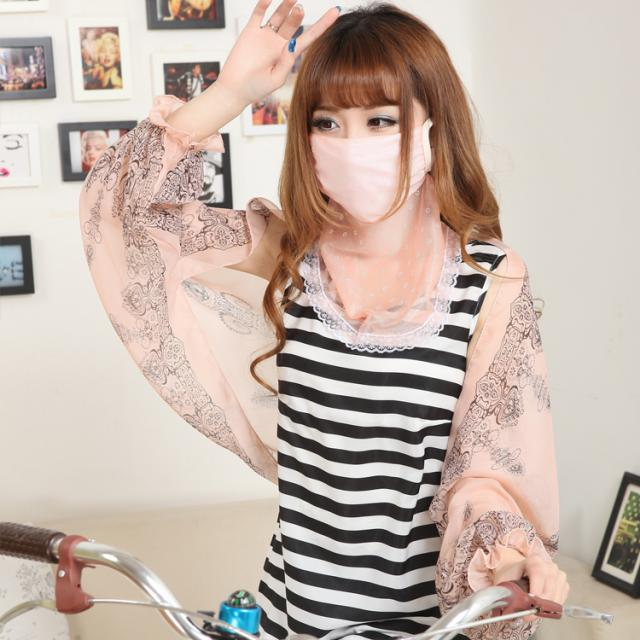mask: (311, 60, 423, 216)
